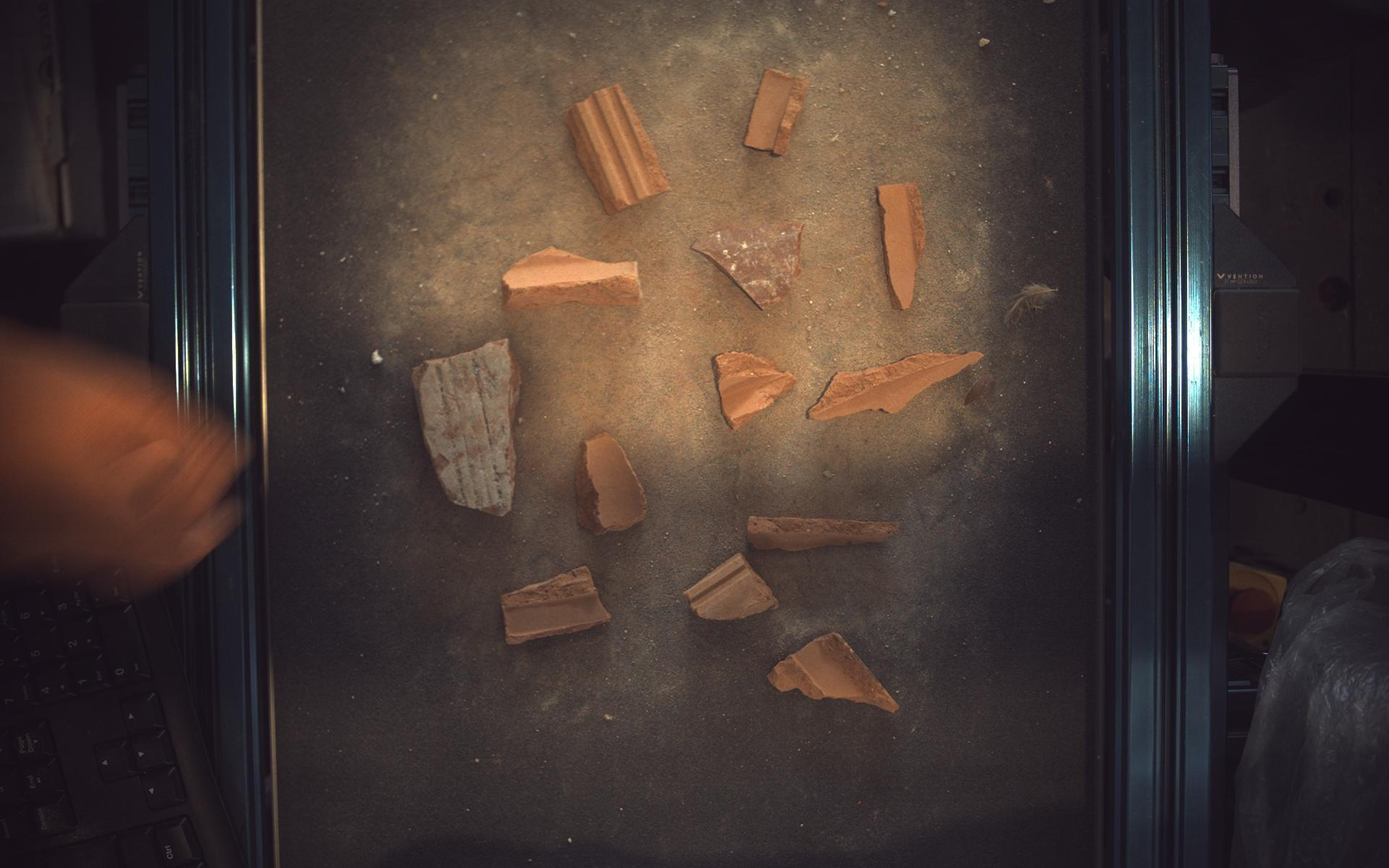brick: (412, 339, 520, 516), (565, 82, 671, 213), (810, 352, 985, 420), (769, 633, 900, 713), (692, 221, 805, 310), (502, 247, 642, 310), (502, 569, 611, 645), (576, 433, 647, 535), (715, 352, 798, 429), (685, 554, 780, 621), (879, 182, 927, 310), (745, 68, 810, 155), (749, 517, 901, 552)
